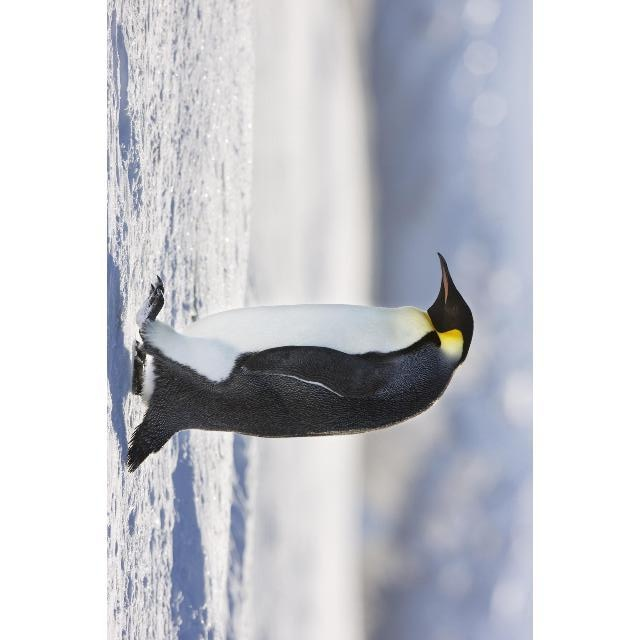penguin: (126, 252, 474, 471)
